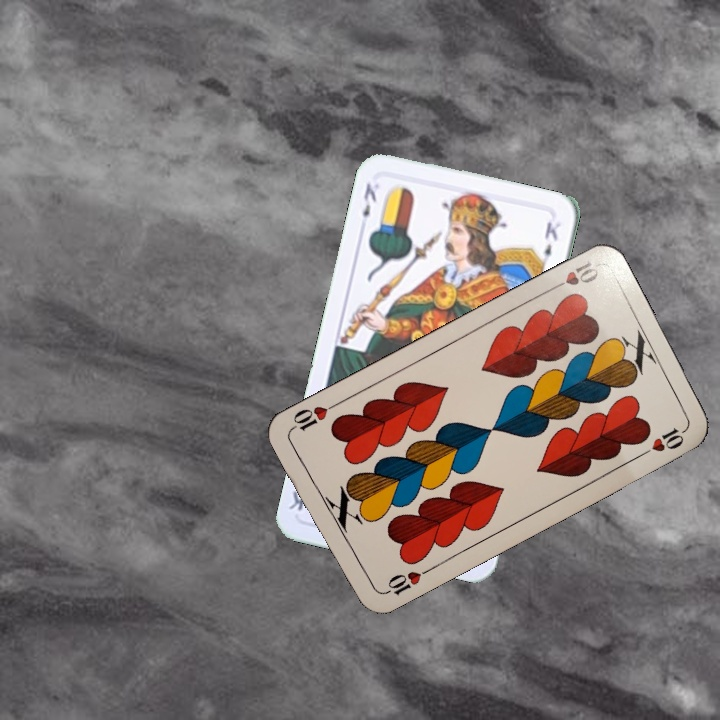EK: (358, 179, 379, 220)
H10: (545, 256, 603, 294), (378, 564, 433, 598)
